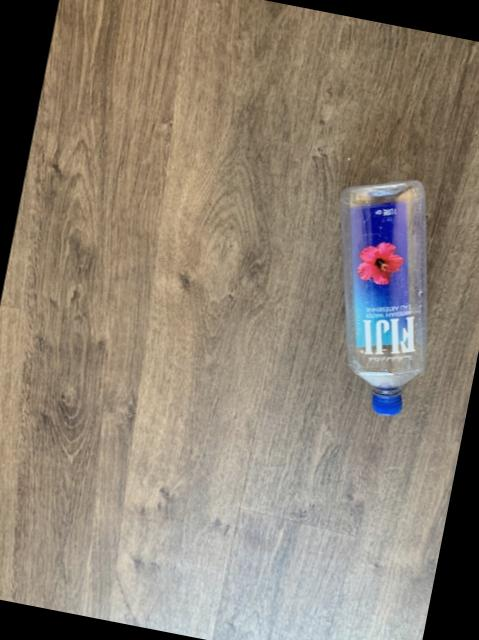plastic: (341, 181, 426, 416)
